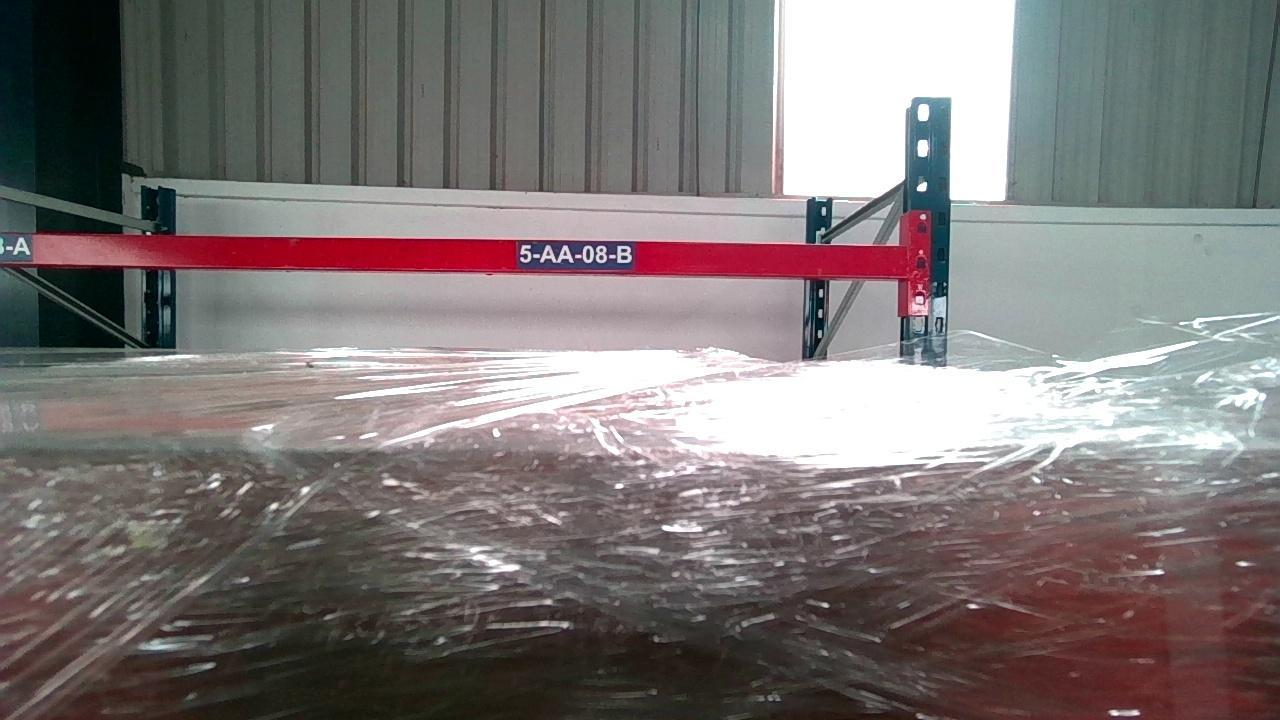h_rack: (0, 236, 905, 278)
